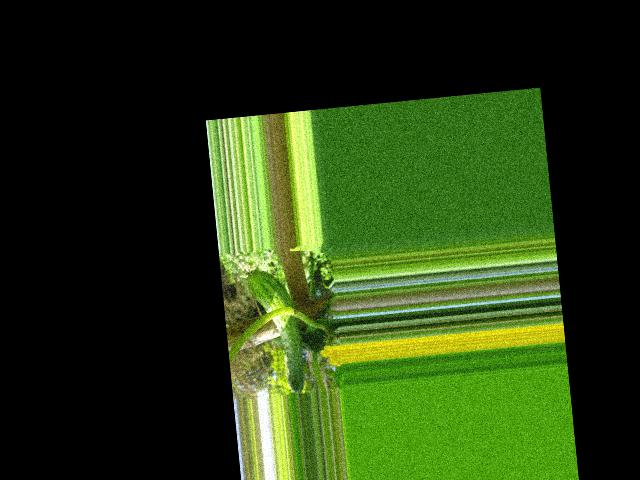cucumber: (247, 266, 306, 397)
